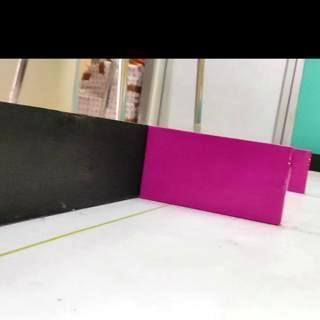xparking: (140, 128, 293, 226), (287, 150, 312, 193)
